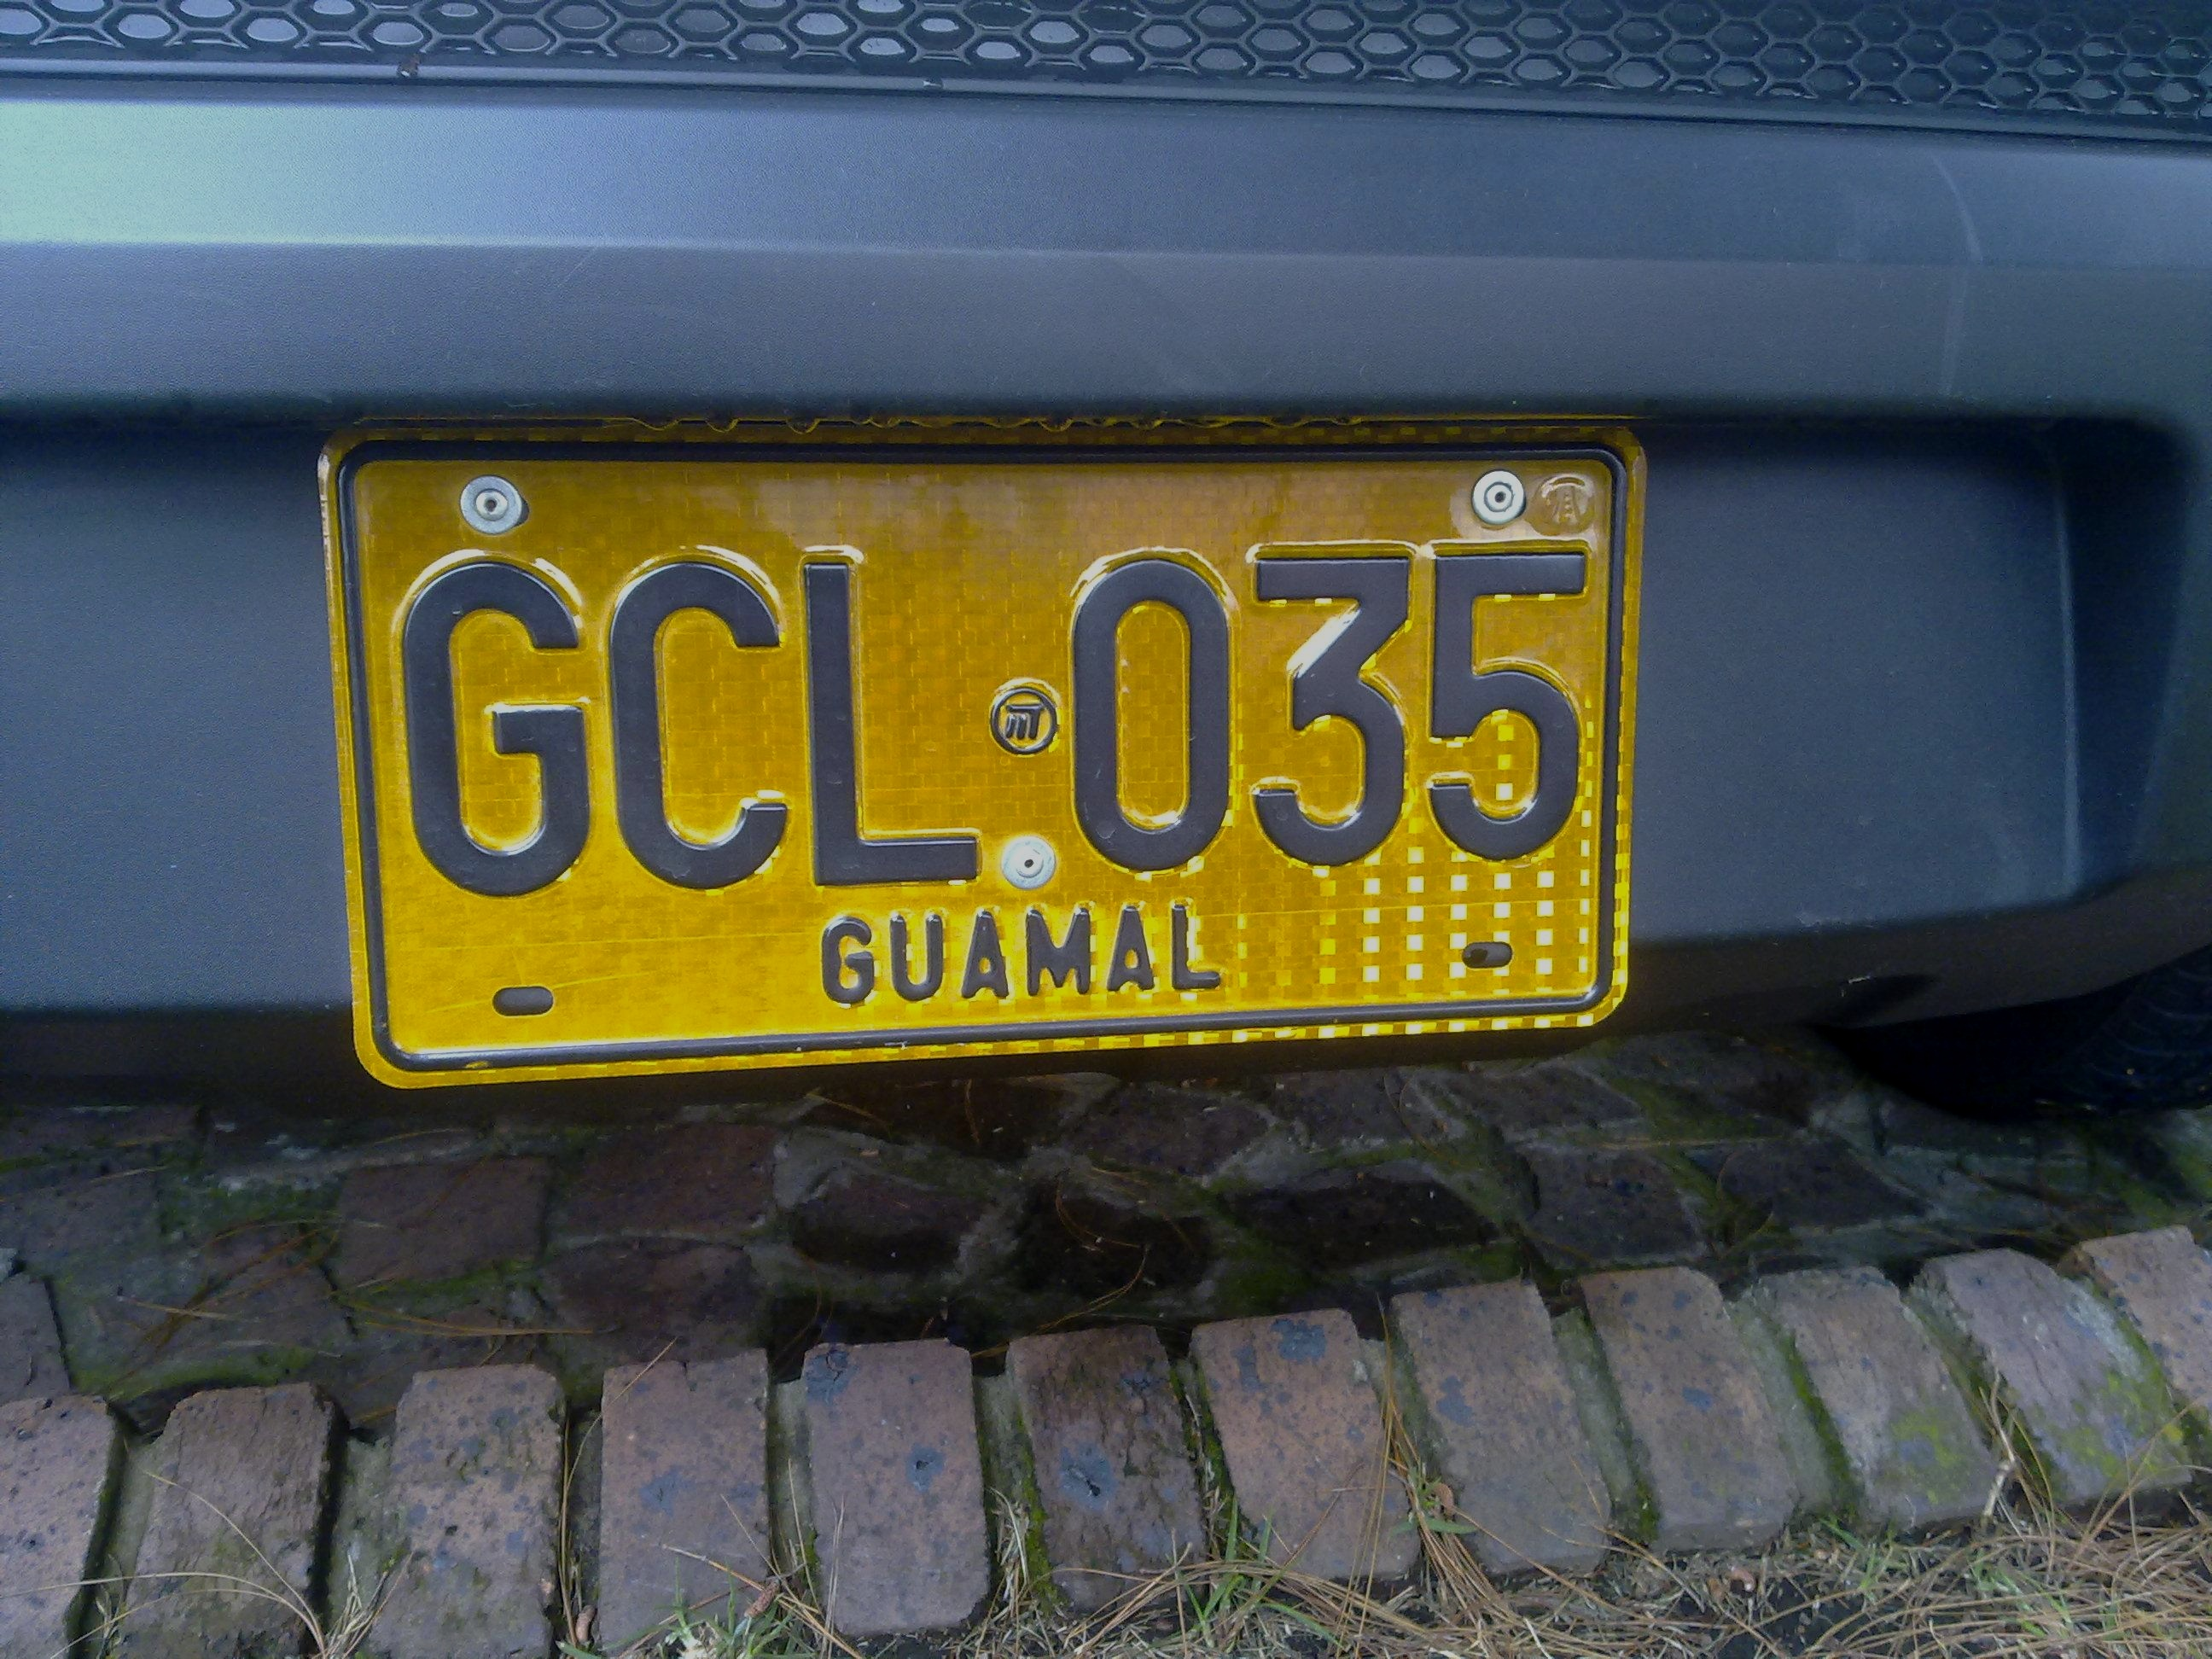placas: (304, 407, 1651, 1103)
